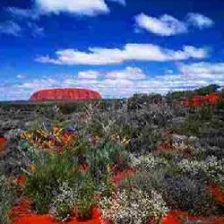neutral: (3, 2, 222, 223)
